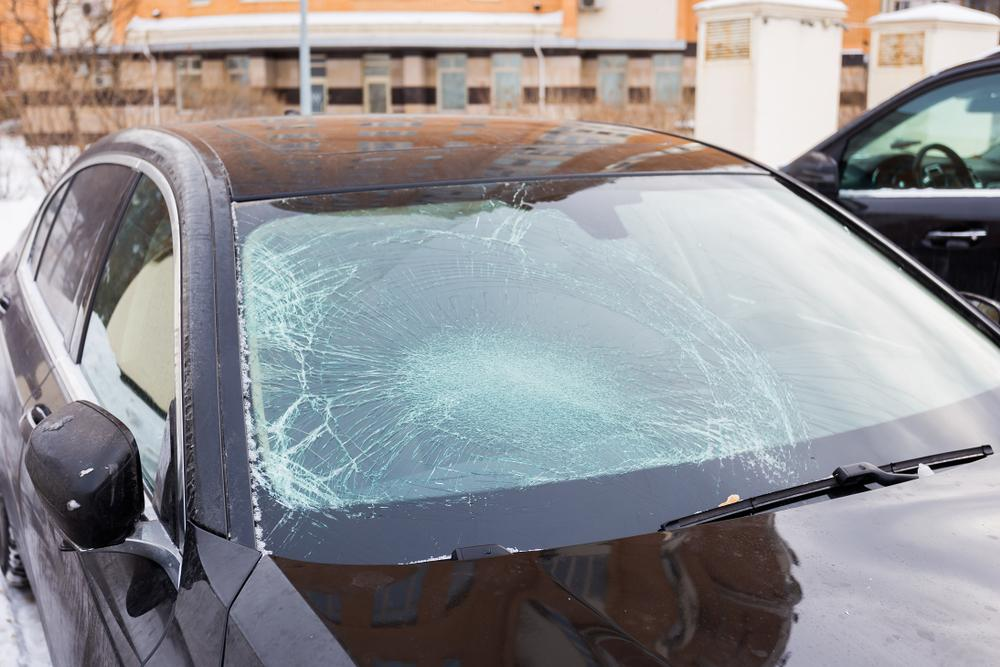dent: (823, 497, 997, 608)
glass shatter: (235, 175, 1000, 564)
